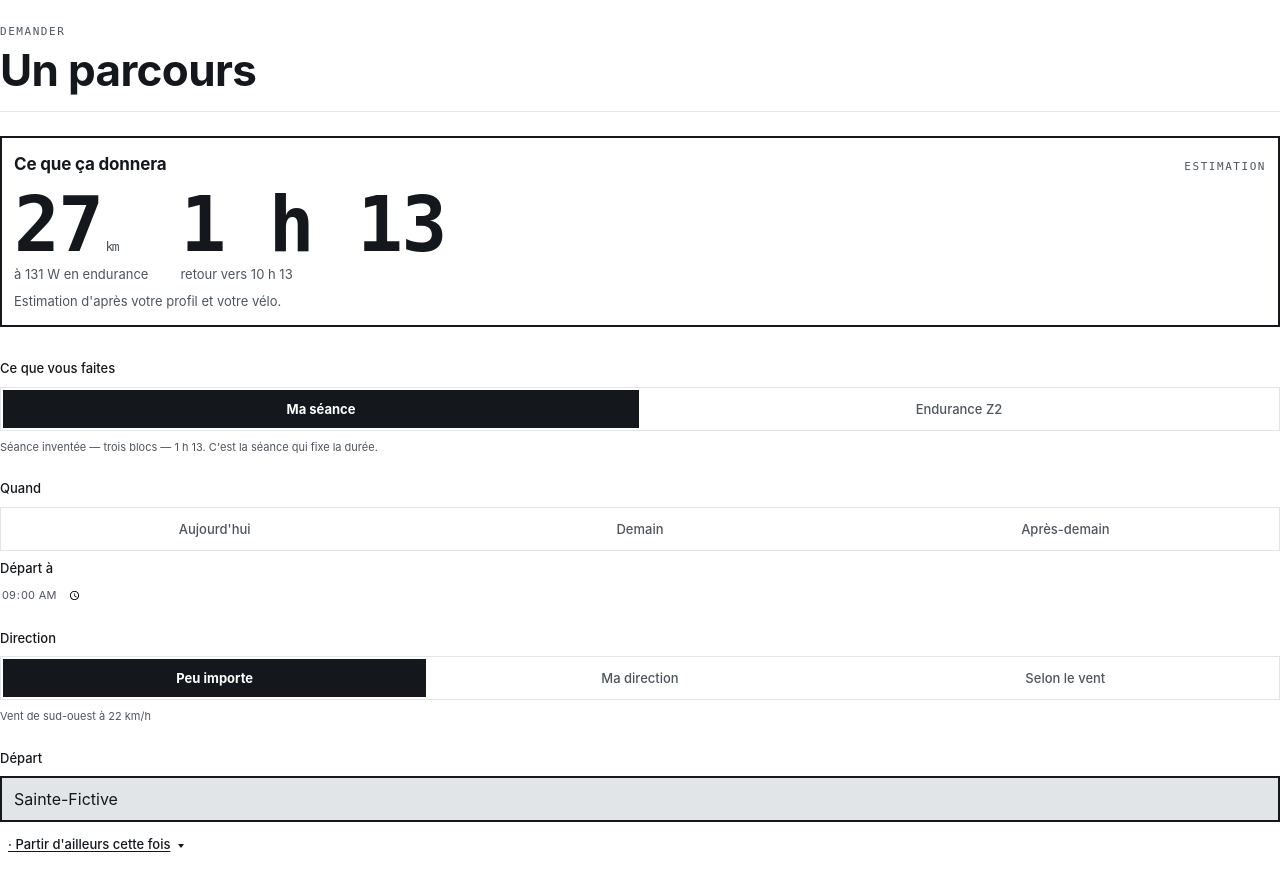
Test: un seul sélecteur affiché à la fois › « Ma direction » puis « Selon le vent » ne laissent jamais les deux sélecteurs visibles
Expected: the text "Vent dans le dos au départ" is not shown
Click the button "Ma direction" at (640, 678), box [428,659,852,697]
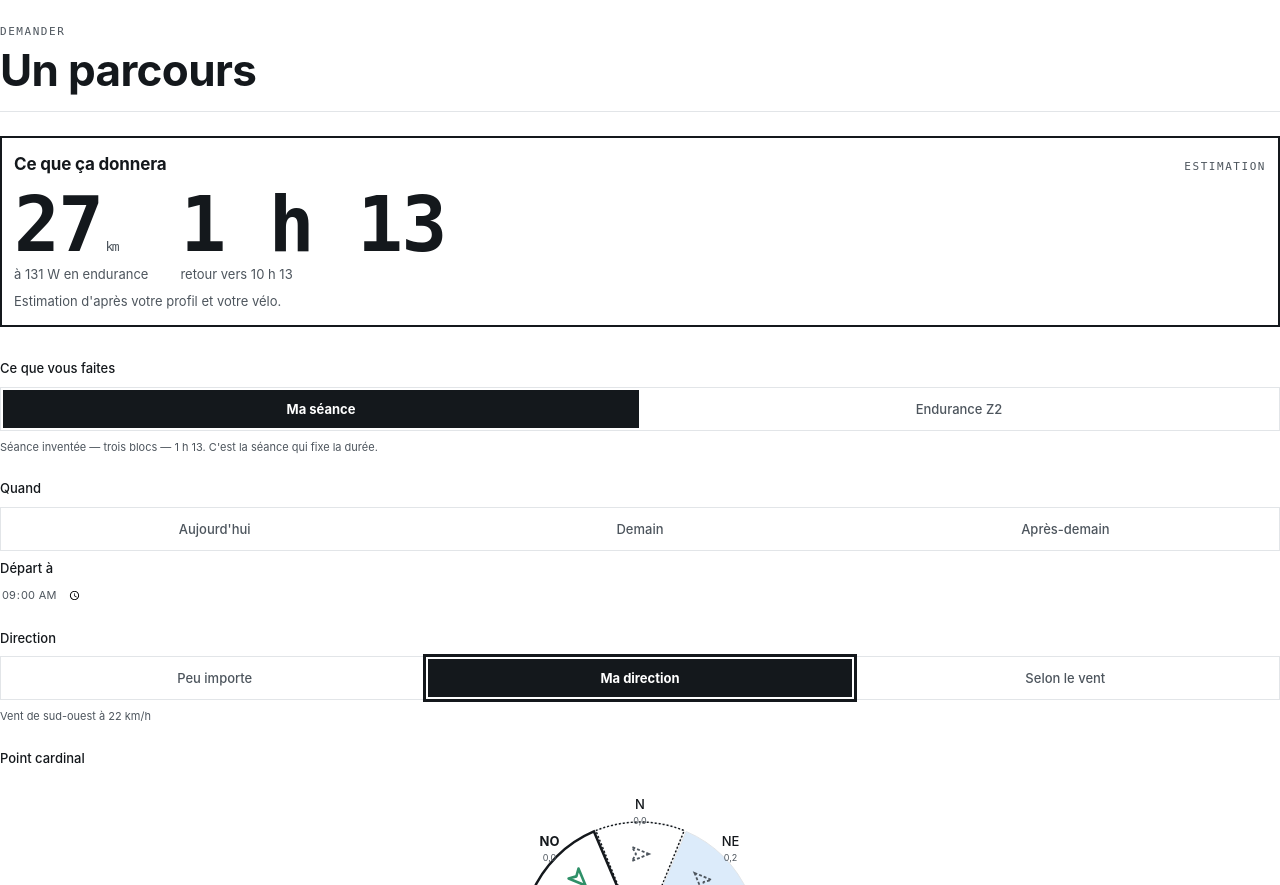
Expected: the text "Vent dans le dos au départ" is not shown
Expected: the text "Vent dans le dos au retour" is not shown
Click the button "Selon le vent" at (1065, 678), box [854,659,1277,697]
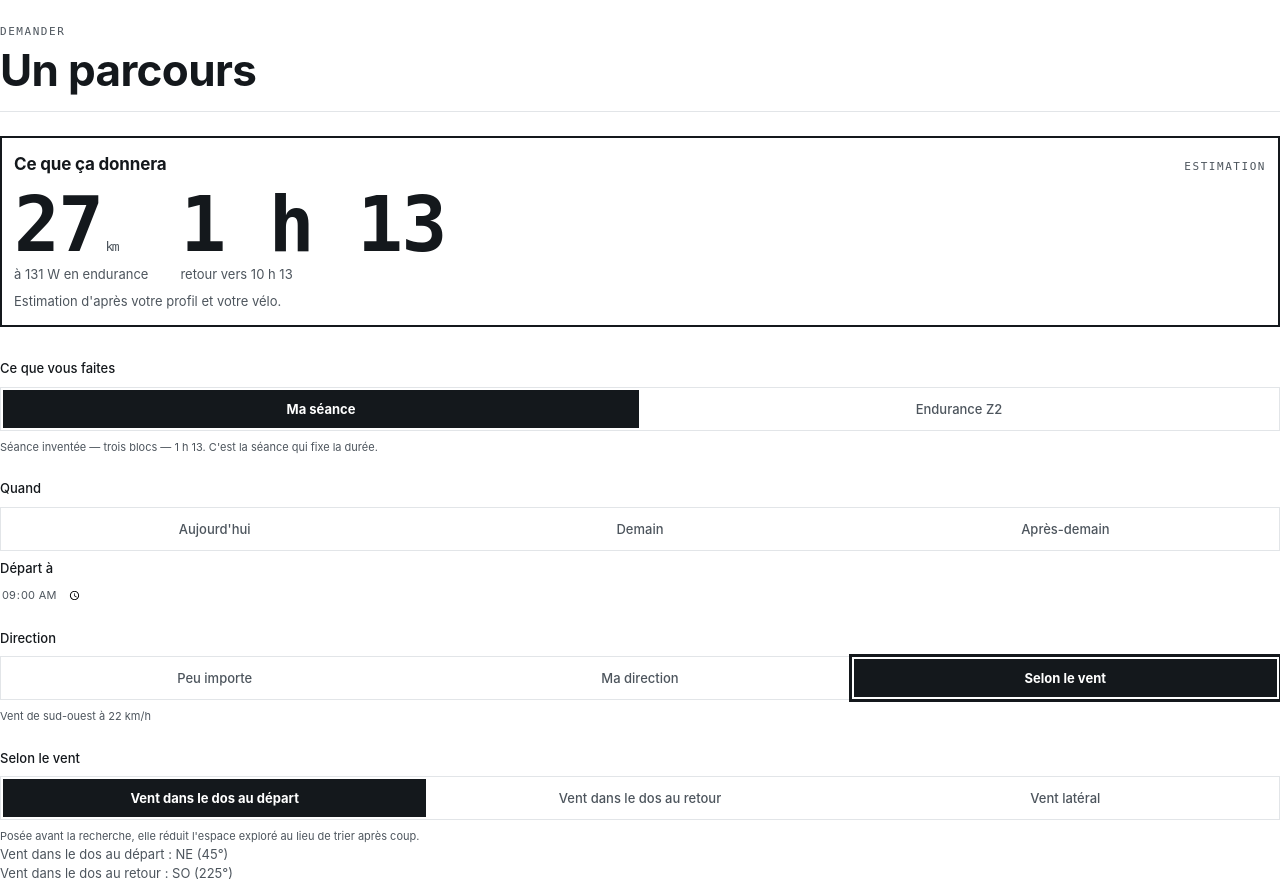
Now the button "Vent dans le dos au départ" is shown, box [3,779,426,817]
Now the button "Vent dans le dos au retour" is shown, box [428,779,852,817]
Now the button "Vent latéral" is shown, box [854,779,1277,817]
Click the button "Peu importe" at (215, 678), box [3,659,426,697]
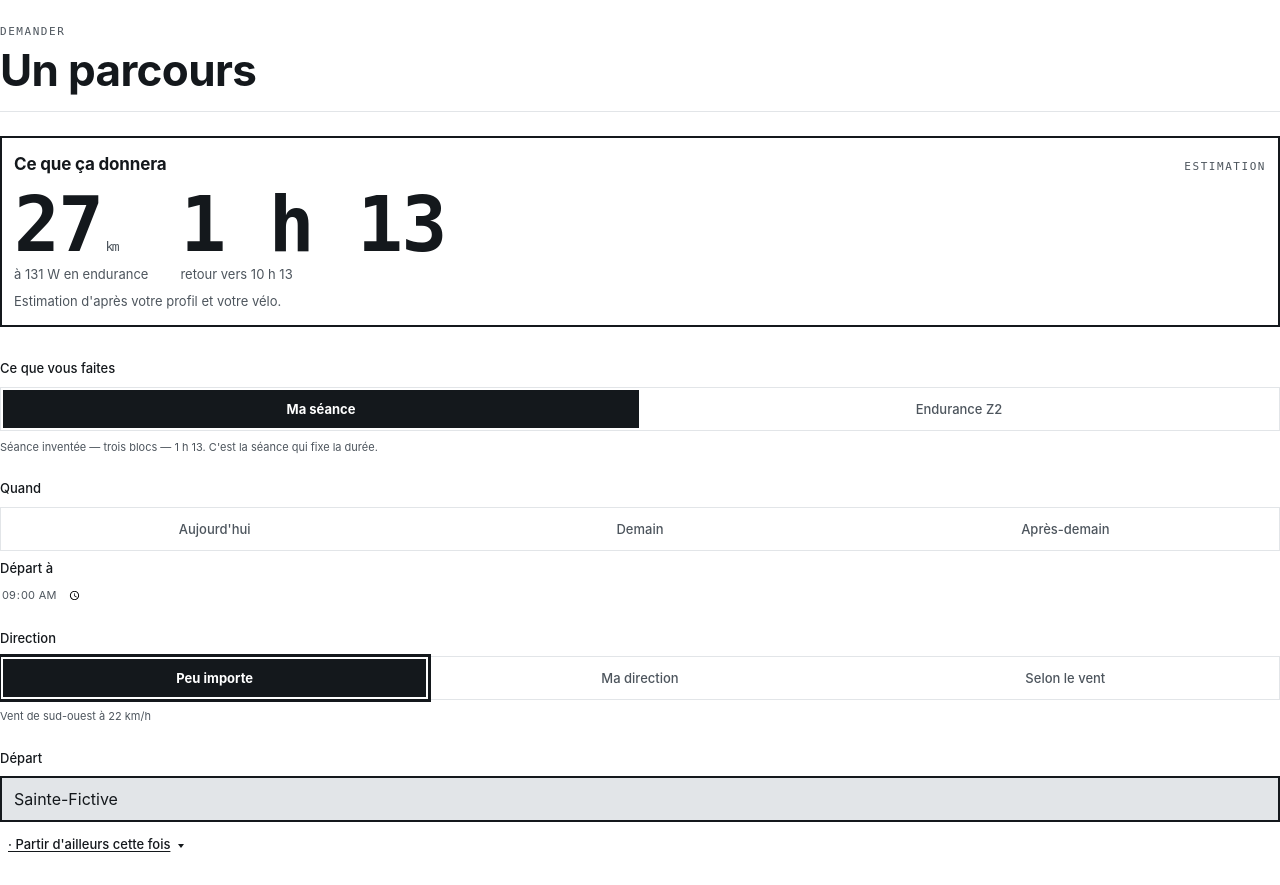
Now the button "Vent dans le dos au départ" is gone
